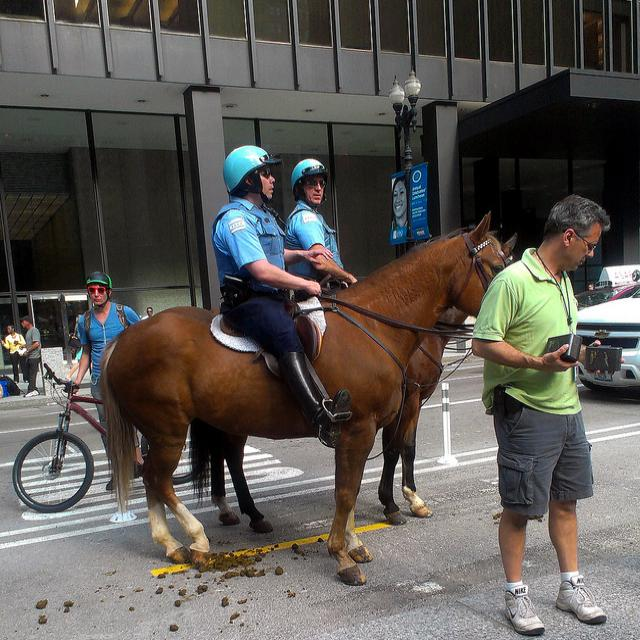Vehicle: (573, 288, 640, 396), (574, 270, 640, 310)
